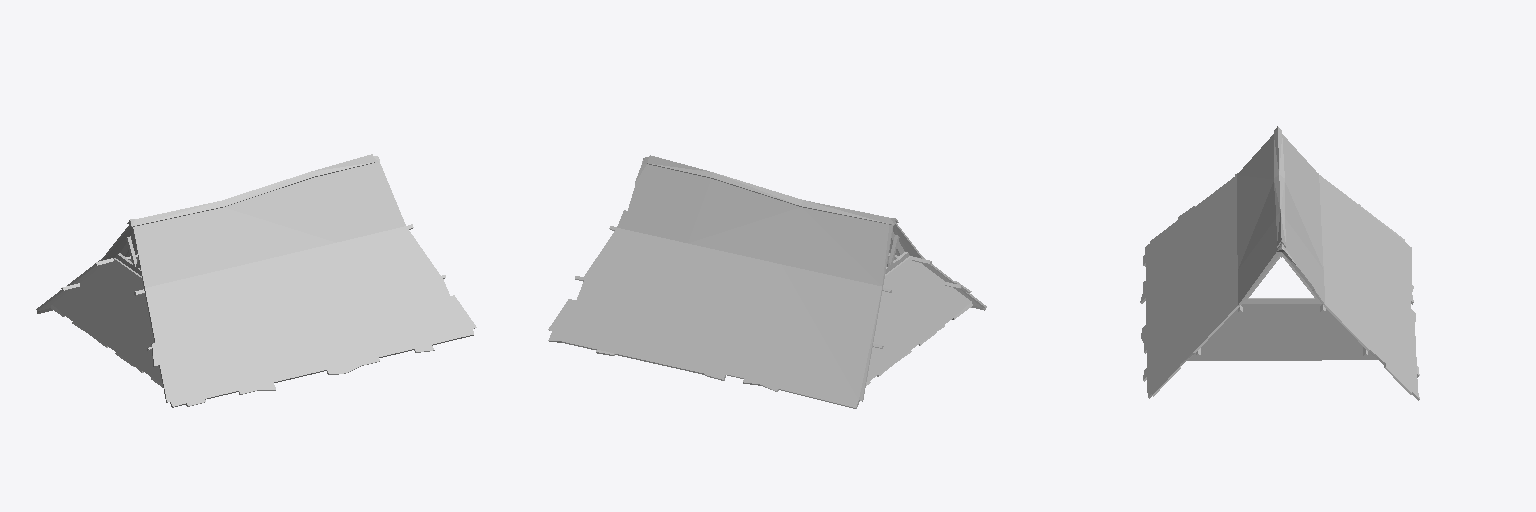
The model's file is 004_WoodenC02New.obj.
The picture shows the model from 3 angles: view 1: azimuth 30°, elevation 25°; view 2: azimuth 150°, elevation 25°; view 3: azimuth 270°, elevation 25°; orthographic projection.
Visible parts, largest first — view 1: Roof_roof; view 2: Roof_roof; view 3: Roof_roof.
Part boxes in pixels (x1,y1,x2,y2): Roof_roof: (36,154,476,407); Roof_roof: (548,155,986,408); Roof_roof: (1140,126,1419,400).
Bounding box in the file's own units: 119 × 52.62 × 91.63.